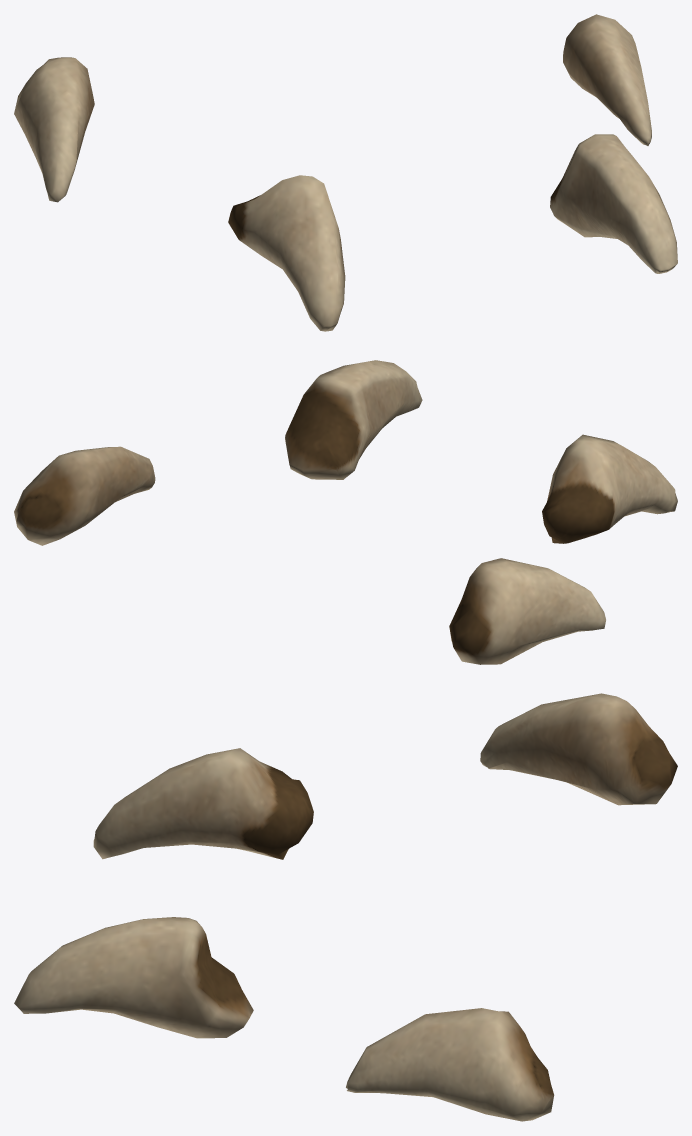
File: Distal Phalanges.glb
3 views of the same model, one above another, from view 1: azimuth 30°, elevation 25°; view 2: azimuth 150°, elevation 25°; view 3: azimuth 270°, elevation 25° (orthographic). The views are drawn at different scales.
Parts seen in each view (by area): view 1: polySurface25, polySurface24, polySurface26, polySurface23; view 2: polySurface26, polySurface24, polySurface25, polySurface23; view 3: polySurface24, polySurface25, polySurface23, polySurface26.
Boxes of the visible parts, <box> form: polySurface25: <box>228,175,345,331</box>; polySurface24: <box>550,134,677,273</box>; polySurface26: <box>14,57,94,202</box>; polySurface23: <box>563,14,651,145</box>; polySurface26: <box>449,558,605,664</box>; polySurface24: <box>285,360,422,479</box>; polySurface25: <box>542,434,677,543</box>; polySurface23: <box>14,446,155,545</box>; polySurface24: <box>14,917,253,1038</box>; polySurface25: <box>93,748,313,859</box>; polySurface23: <box>346,1008,554,1121</box>; polySurface26: <box>480,693,677,805</box>.
Bounding box in the file's own units: 42.4 × 8.63 × 36.12.
1 material, 1 textured.
